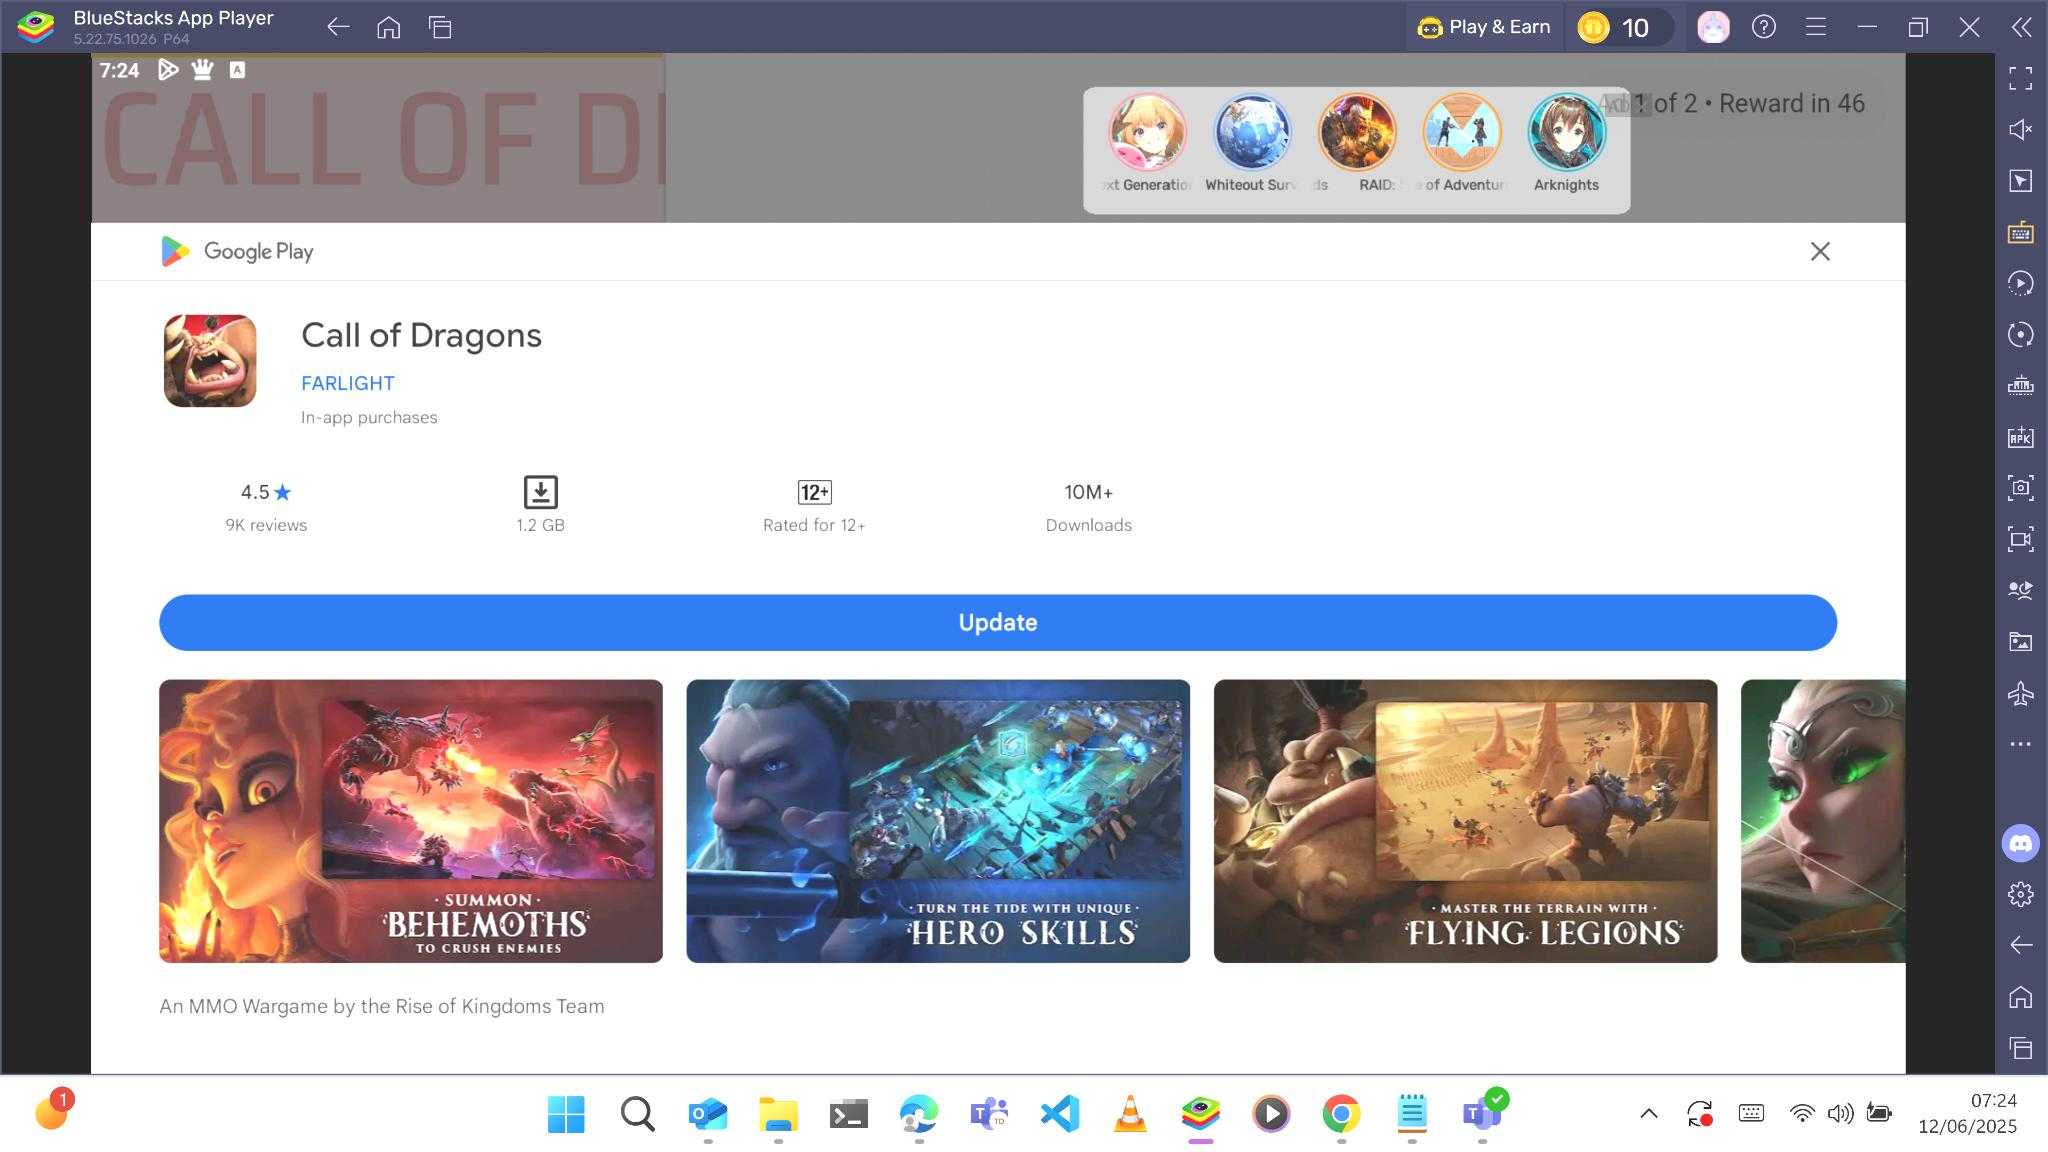close_ad: (1810, 239, 1831, 262)
